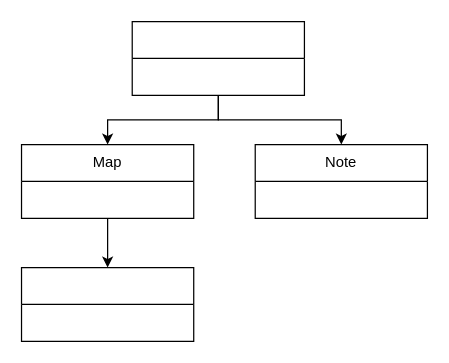
This 449x363 diagram has some shape labels left out. The shapes that lost their labels are listed below. From the top down, each one's centre as x and y in pixels, then its label:
point 217,57: Game
point 107,303: Chart
